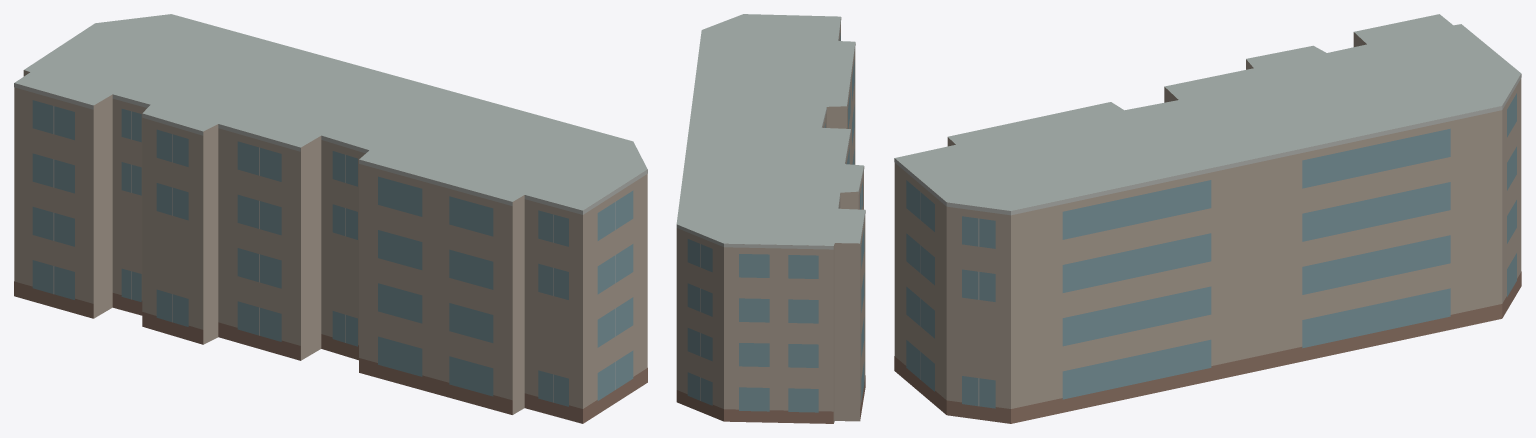
File: survey-upis-32828246.glb
3 views of the same model, side by side, from view 1: azimuth 30°, elevation 25°; view 2: azimuth 150°, elevation 25°; view 3: azimuth 270°, elevation 25° (orthographic). The views are drawn at different scales.
Visible parts, largest first — view 1: survey-upis-32828246.tmp; view 2: survey-upis-32828246.tmp; view 3: survey-upis-32828246.tmp.
Boxes of the visible parts, x1,y1,x2,y2 form: survey-upis-32828246.tmp: (14,14,647,423); survey-upis-32828246.tmp: (676,14,865,423); survey-upis-32828246.tmp: (894,14,1521,423).
Size of the model in its own units: 24.03 by 12.1 by 32.3.
